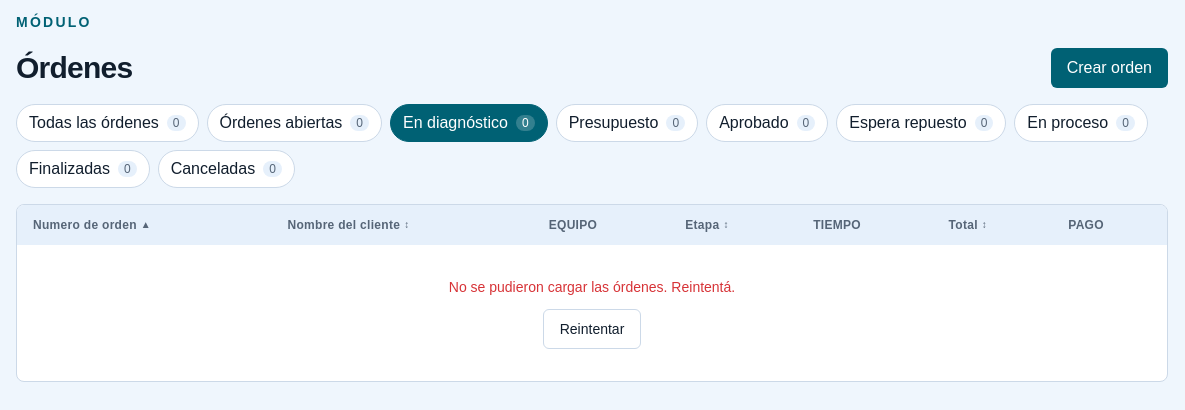
Test case: OrdenesPage › muestra error y reintenta la carga
This screenshot has width=1185, height=410.
expect the message "No se pudieron cargar las órdenes. Reintentá. Reintentar" is shown: met, box [449,279,735,349]
Step 1. Click the button "Reintentar" → (592, 329), box [543,309,641,349]
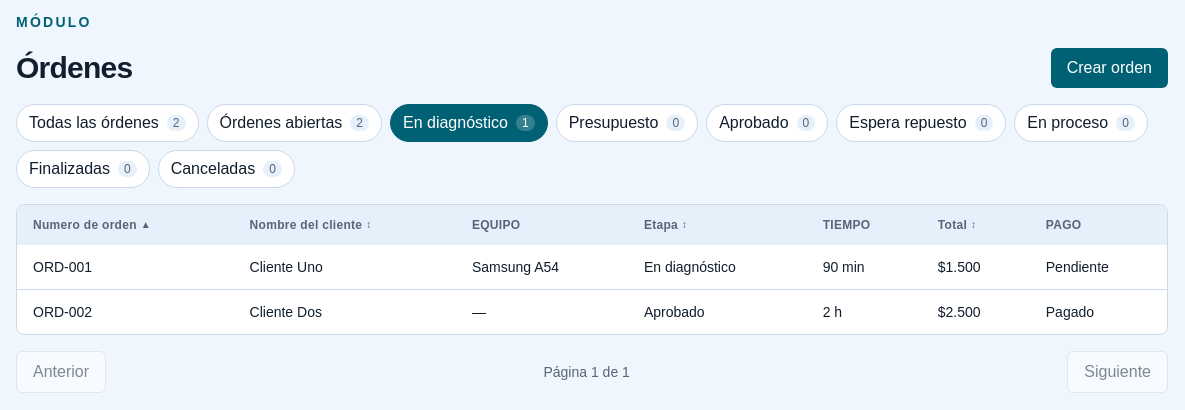
expect the text "ORD-001" is shown: met, box [17,245,234,290]
